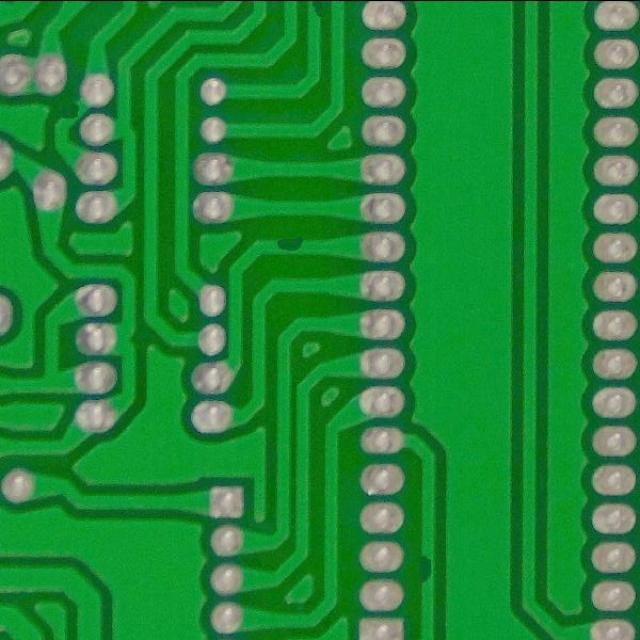MouseBite: (264, 232, 317, 260), (414, 545, 443, 592), (301, 0, 326, 22)
